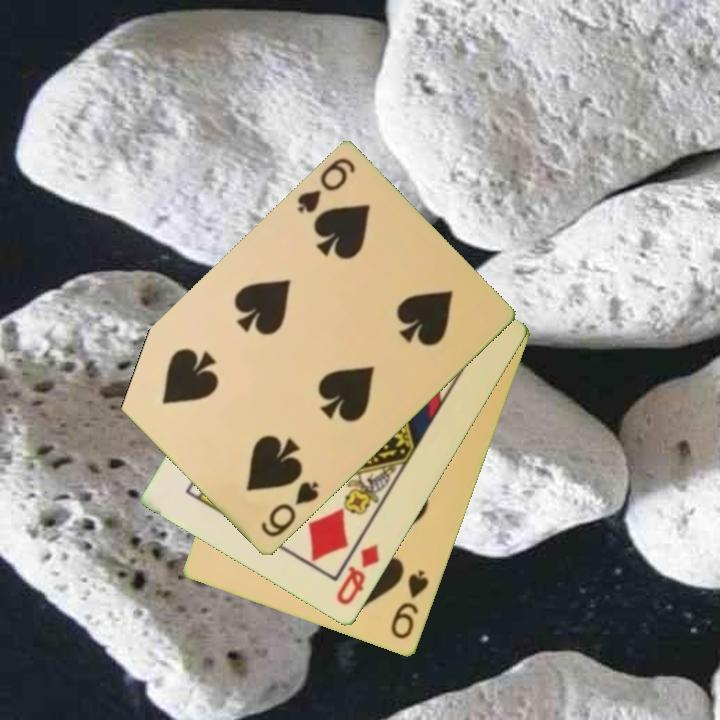6s: (257, 478, 322, 541), (294, 155, 359, 217)
9s: (387, 567, 433, 643)
Qd: (333, 540, 383, 609)
